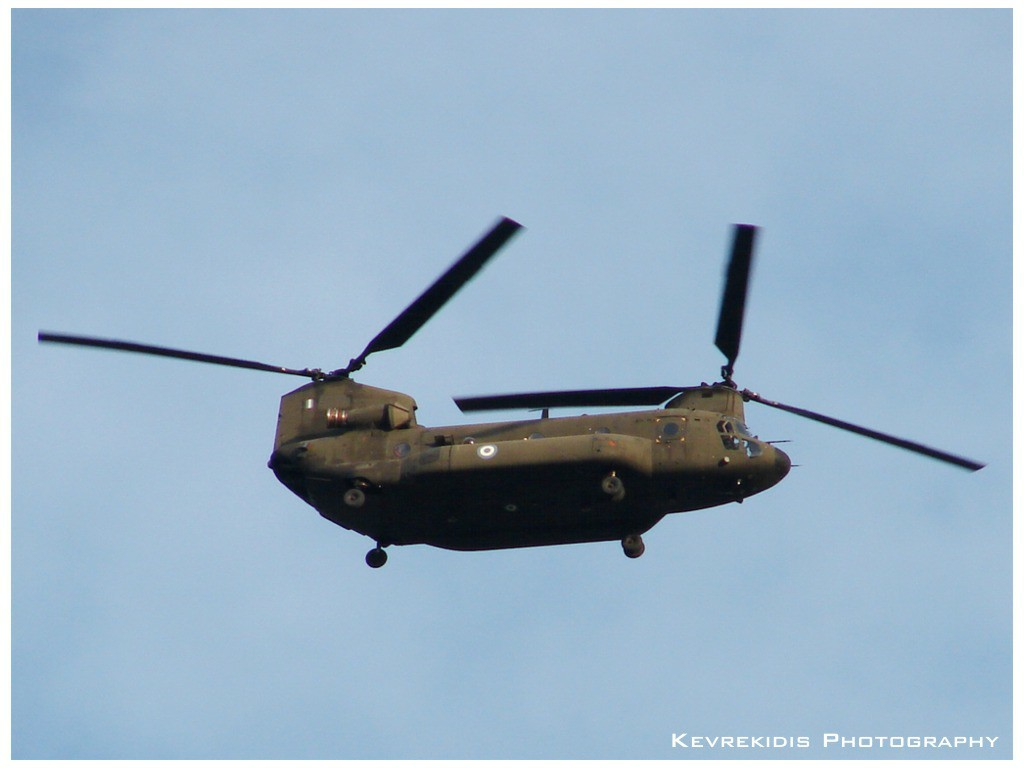chinook: (139, 222, 960, 566)
